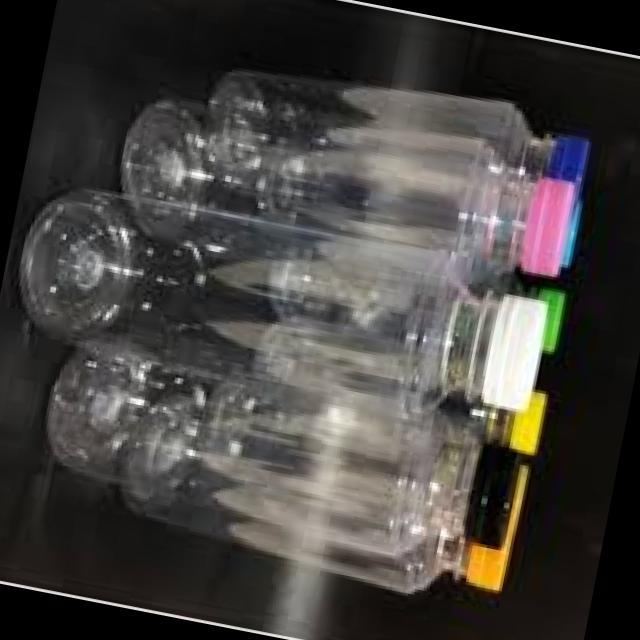good: (11, 166, 553, 440), (26, 343, 535, 628), (66, 57, 590, 287), (177, 50, 610, 214)
